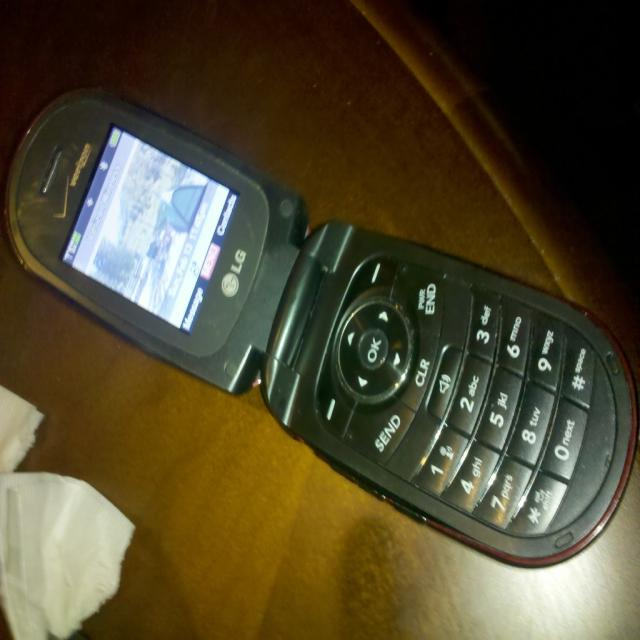Mobile-phone: (106, 119, 611, 572)
